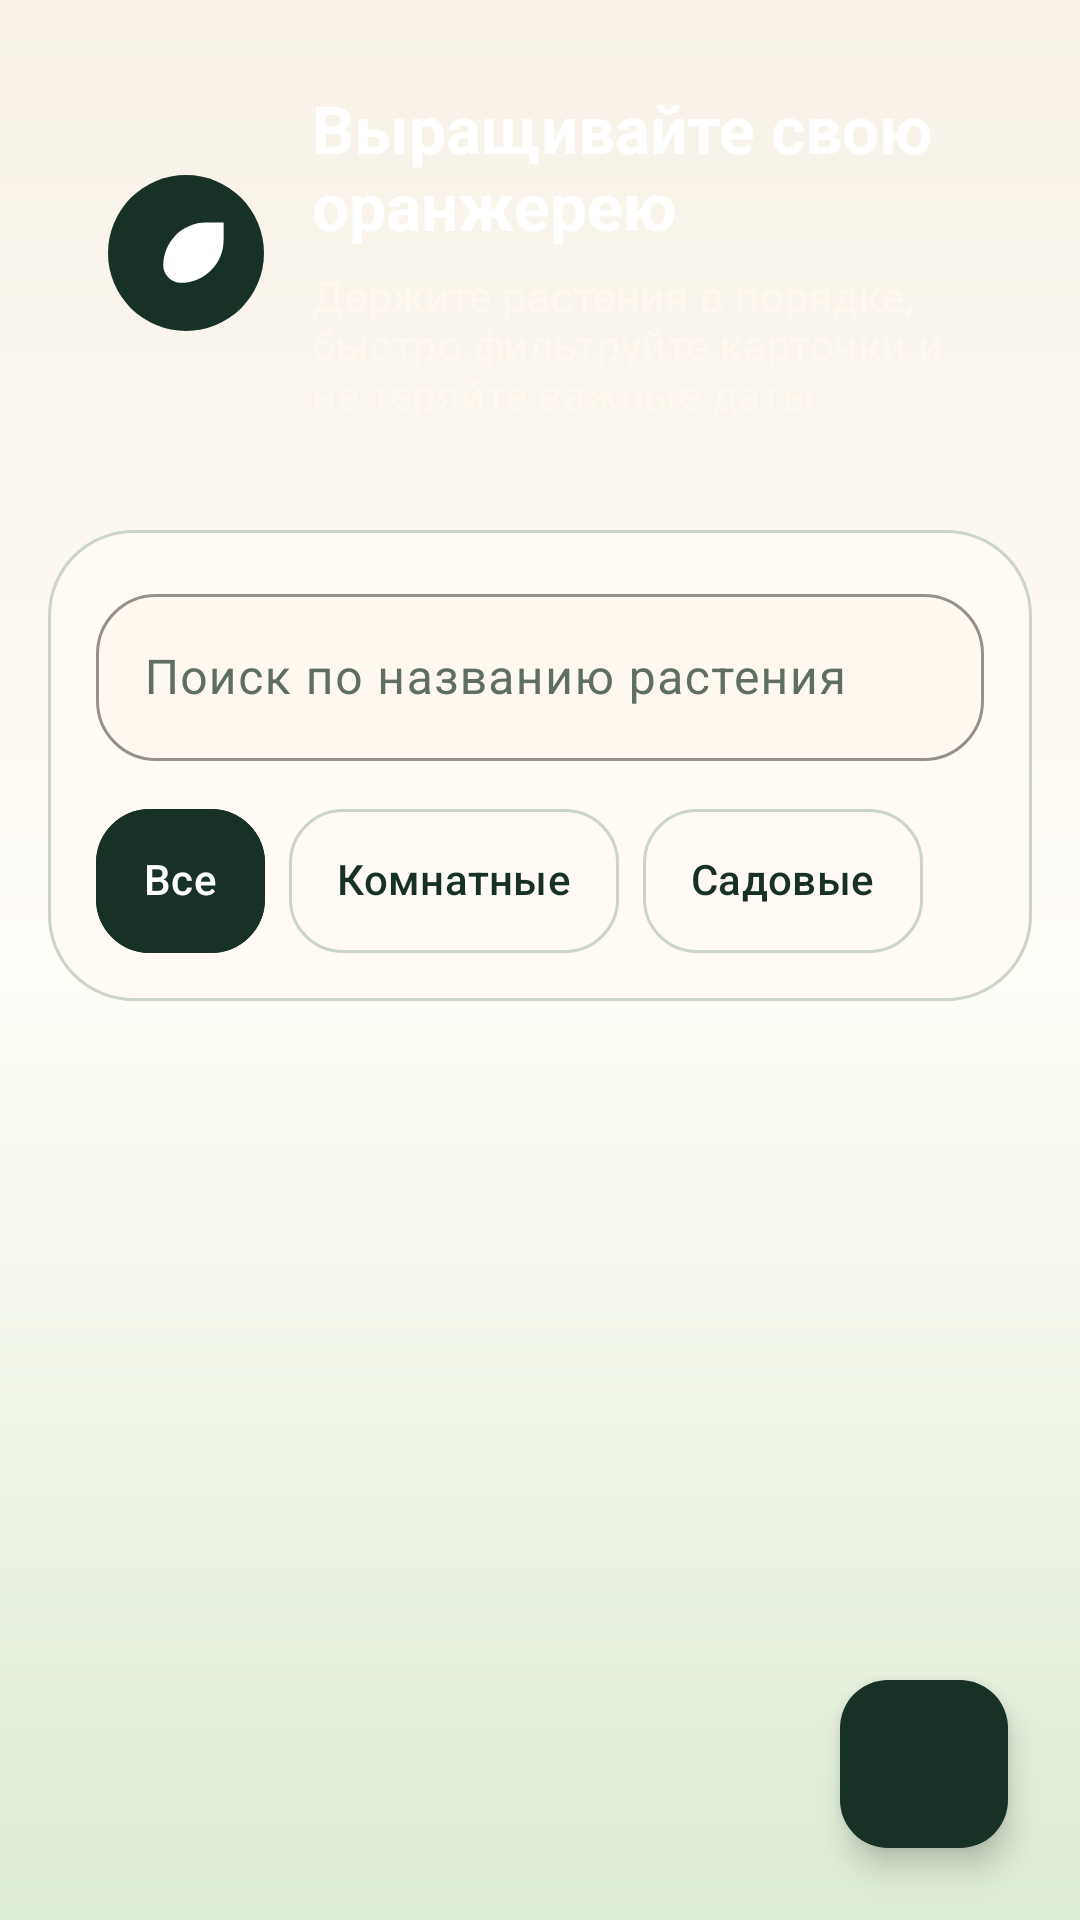

Named icons in this screenshot (1080px x 1920px) and their centers, (x,y):
plant leaf: (186,253)
